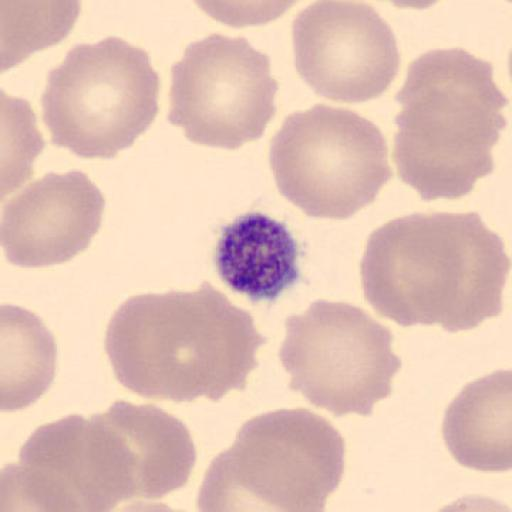Platelet: (208, 208, 308, 305)
RBC: (112, 282, 264, 406), (39, 34, 162, 162), (279, 297, 402, 420), (268, 101, 392, 222), (165, 30, 280, 152), (102, 289, 220, 404), (404, 206, 510, 334), (156, 281, 266, 403), (358, 209, 466, 330), (392, 86, 500, 202), (15, 411, 140, 511), (230, 406, 348, 506), (289, 0, 401, 104), (92, 396, 198, 501), (2, 168, 106, 269), (399, 46, 507, 136), (194, 443, 327, 512), (16, 412, 100, 510), (441, 366, 512, 475), (2, 301, 58, 414), (195, 443, 283, 512), (1, 0, 83, 73), (2, 92, 44, 199), (1, 461, 83, 512), (186, 0, 306, 30), (421, 492, 512, 512), (94, 496, 200, 512), (102, 500, 197, 512), (366, 0, 453, 10)
